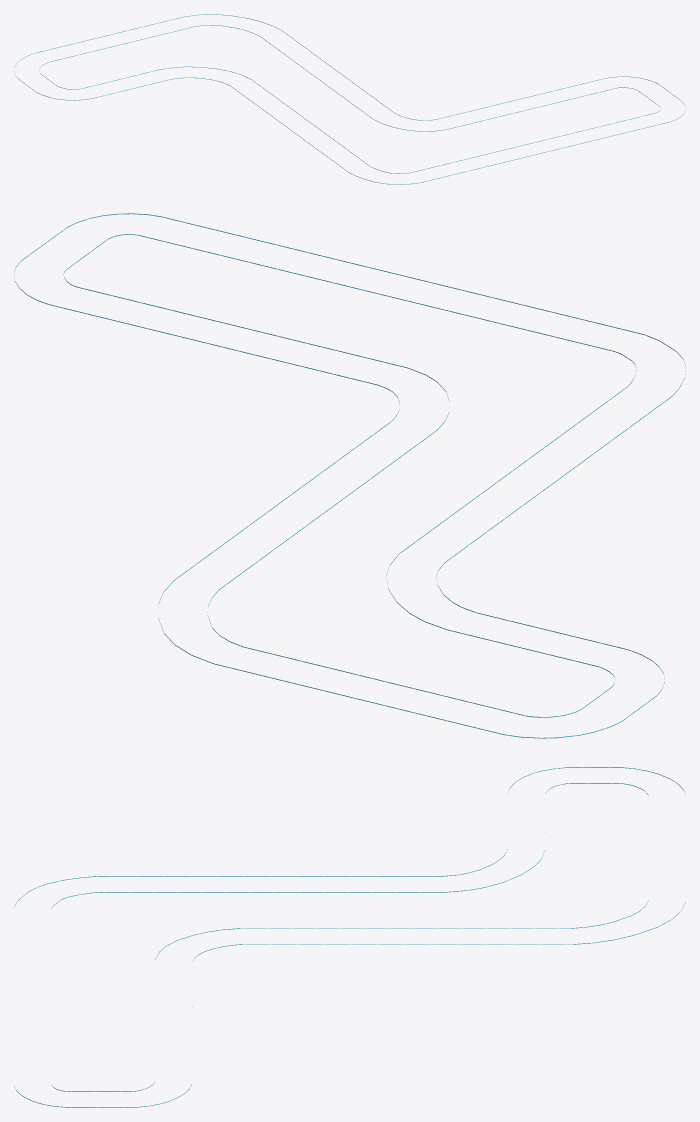
File: rc_02_bud_01_01.FBX
3 views of the same model, one above another, from view 1: azimuth 30°, elevation 25°; view 2: azimuth 150°, elevation 25°; view 3: azimuth 270°, elevation 25° (orthographic). The views are drawn at different scales.
Parts seen in each view (by area): view 1: rc_02_bud_01_01; view 2: rc_02_bud_01_01; view 3: rc_02_bud_01_01.
Boxes of the visible parts, left/top/right/bottom form: rc_02_bud_01_01: left=14, top=14, right=685, bottom=184; rc_02_bud_01_01: left=14, top=213, right=685, bottom=738; rc_02_bud_01_01: left=14, top=767, right=685, bottom=1107.
Bounding box in the file's own units: 64573 × 53961 × 48.65.
